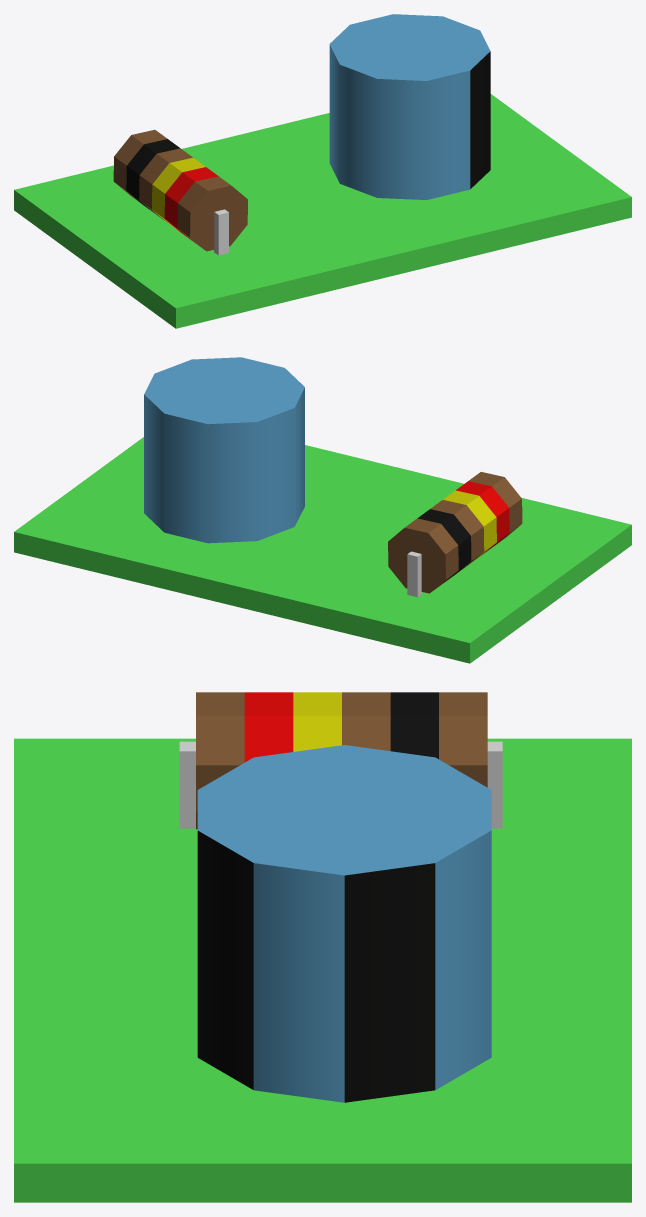
The model's file is CircuitSmall.fbx.
3 views of the same model, one above another, from view 1: azimuth 30°, elevation 25°; view 2: azimuth 150°, elevation 25°; view 3: azimuth 270°, elevation 25° (orthographic). The views are drawn at different scales.
Parts seen in each view (by area): view 1: CircuitSmall; view 2: CircuitSmall; view 3: CircuitSmall.
Boxes of the visible parts, x1,y1,x2,y2 form: CircuitSmall: [14, 14, 631, 328]; CircuitSmall: [14, 357, 631, 663]; CircuitSmall: [14, 692, 631, 1202].
Bounding box in the file's own units: 58.54 × 17.12 × 36.
